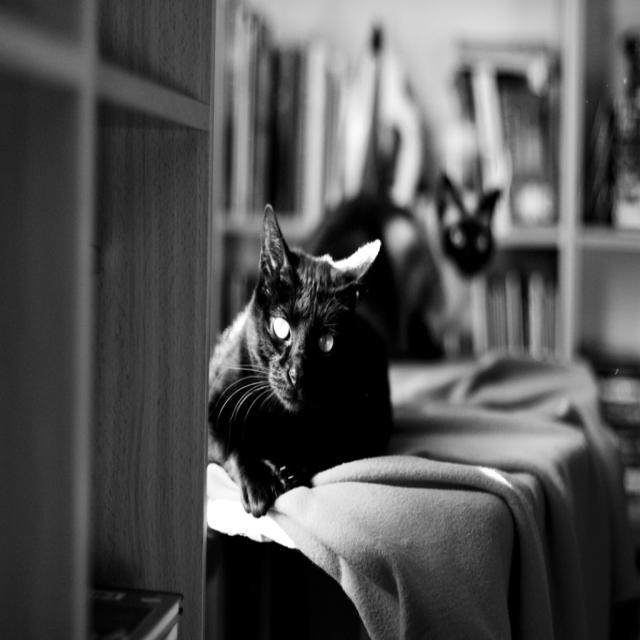Cat: (202, 234, 396, 526), (302, 162, 506, 362)
